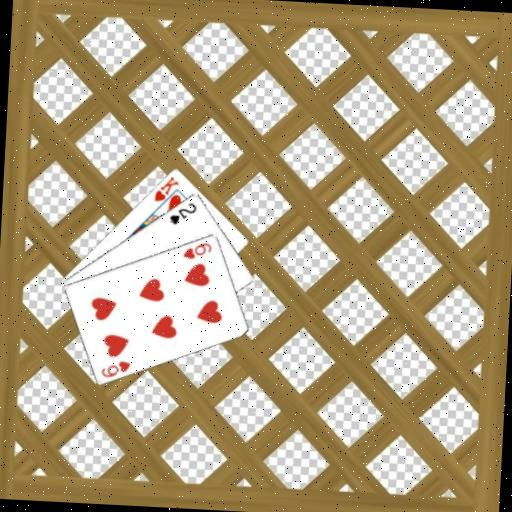2S: (167, 198, 199, 227)
6H: (98, 356, 133, 380), (180, 239, 214, 262)
KH: (151, 172, 181, 204)
